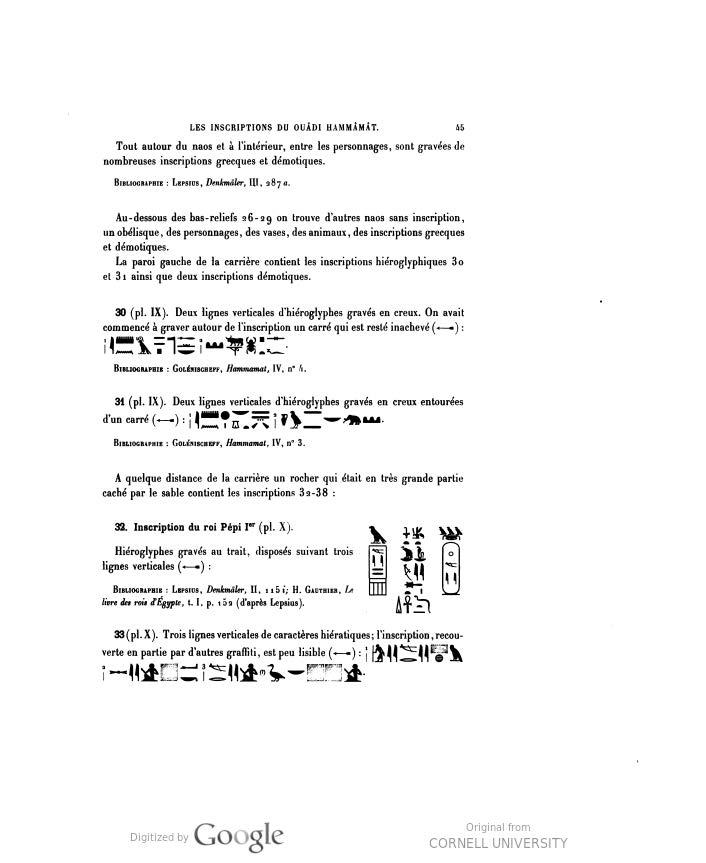circle: (434, 539, 476, 603)
